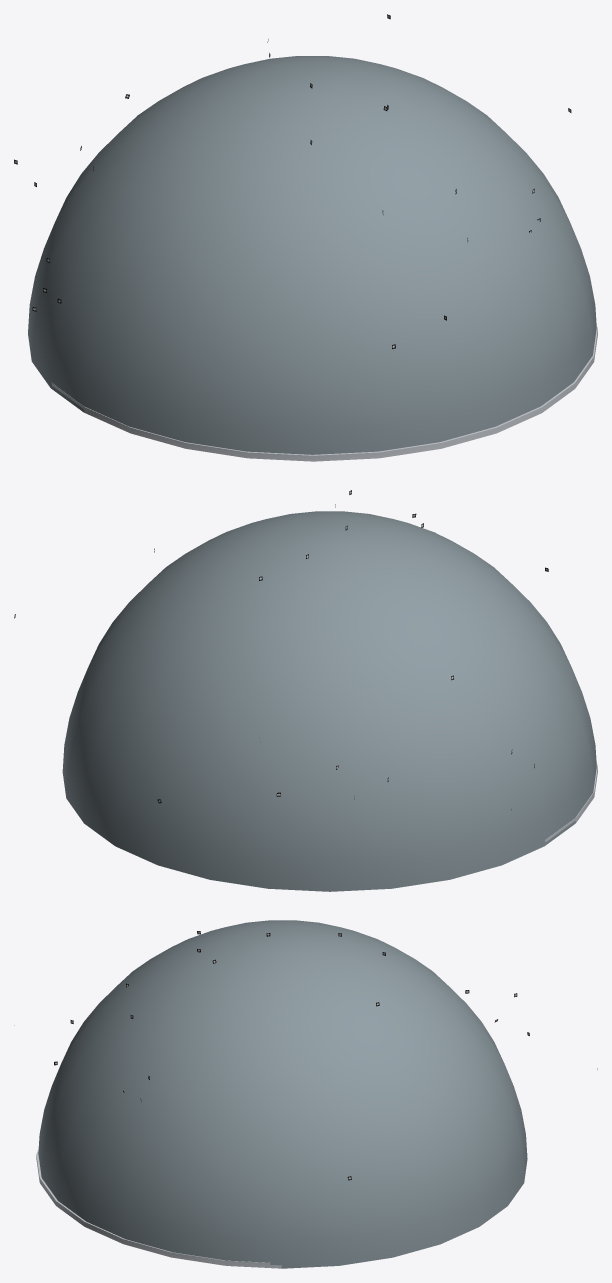
Rendered from snow quarter circle.dae.
3 renders of one model, top to bottom at view 1: azimuth 30°, elevation 25°; view 2: azimuth 150°, elevation 25°; view 3: azimuth 270°, elevation 25°, orthographic. The views are drawn at different scales.
Parts seen in each view (by area): view 1: polySurface39, ground; view 2: polySurface39; view 3: polySurface39, ground.
Boxes of the visible parts, left/top/right/bottom form: polySurface39: left=28, top=56, right=596, bottom=454; ground: left=51, top=326, right=597, bottom=461; polySurface39: left=62, top=511, right=596, bottom=891; polySurface39: left=38, top=920, right=527, bottom=1268; ground: left=36, top=1149, right=281, bottom=1268.
Bounding box in the file's own units: 299 × 144 × 324.
Materials: 11 (3 with a texture image).
